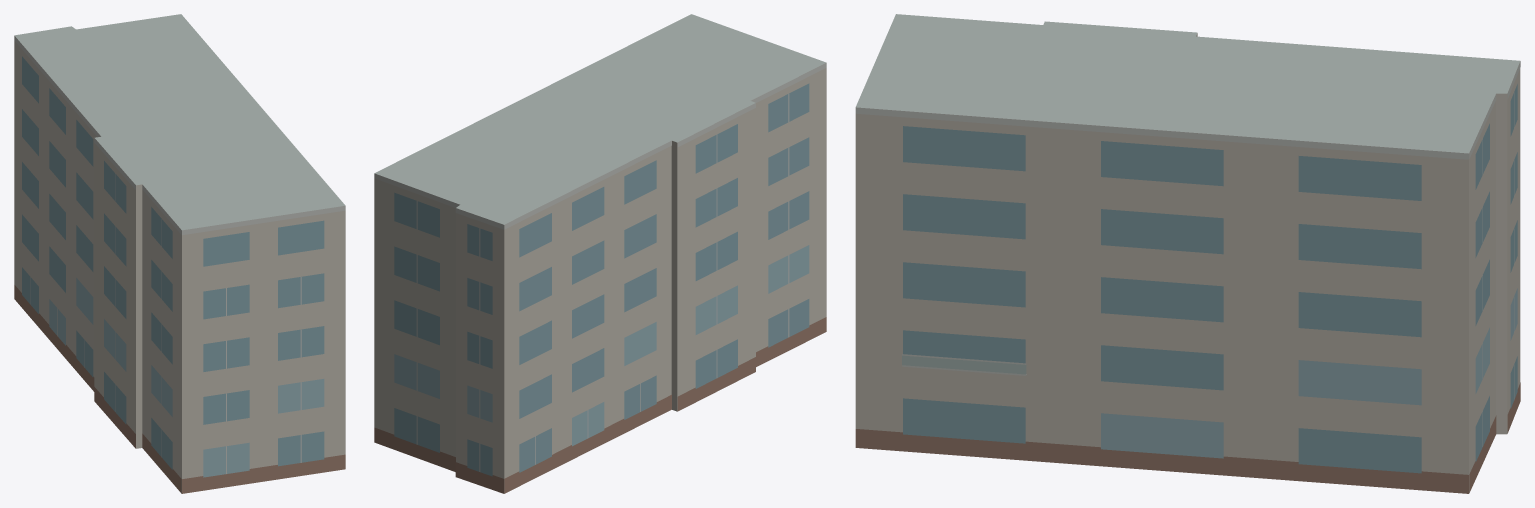
The model's file is survey-upis-32713668.glb.
3 views of the same model, side by side, from view 1: azimuth 30°, elevation 25°; view 2: azimuth 150°, elevation 25°; view 3: azimuth 270°, elevation 25° (orthographic). The views are drawn at different scales.
Visible parts, largest first — view 1: survey-upis-32713668.tmp; view 2: survey-upis-32713668.tmp; view 3: survey-upis-32713668.tmp.
Part boxes in pixels (x1,y1,x2,y2): survey-upis-32713668.tmp: [14, 14, 345, 493]; survey-upis-32713668.tmp: [374, 14, 826, 493]; survey-upis-32713668.tmp: [855, 14, 1520, 493].
Size of the model in its own units: 11.52 by 13.1 by 23.2.
